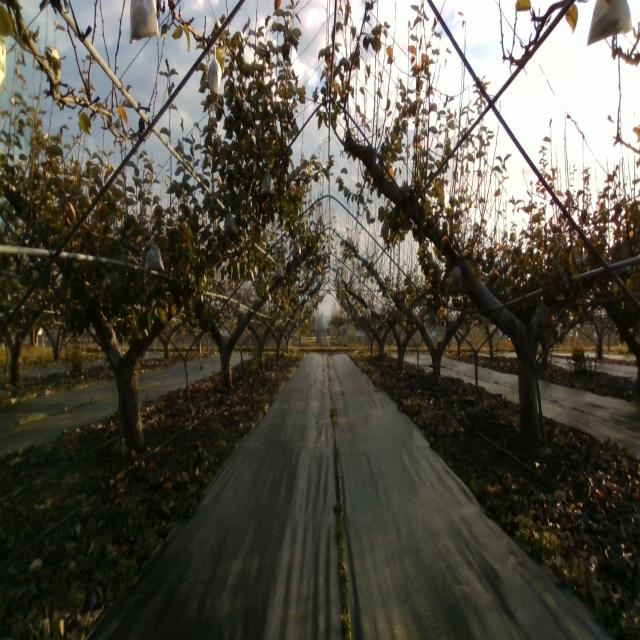pearbags: (587, 0, 631, 45), (129, 0, 160, 45), (207, 48, 222, 96), (222, 204, 238, 236), (260, 165, 274, 195), (446, 266, 462, 289), (379, 217, 390, 239)
